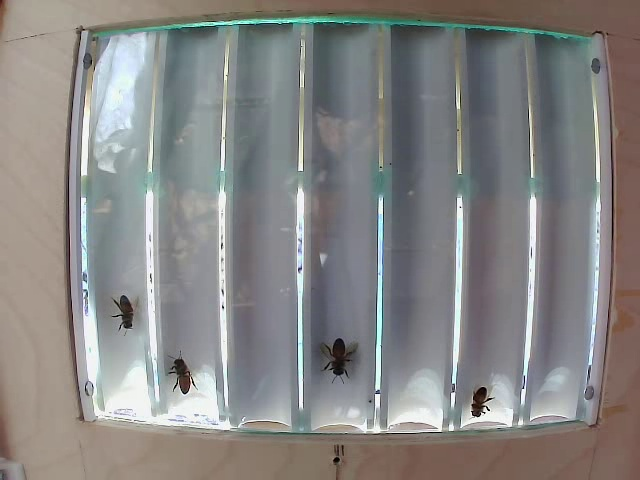bee: (329, 338, 363, 393), (99, 284, 138, 329), (457, 384, 499, 423), (165, 356, 203, 398)
